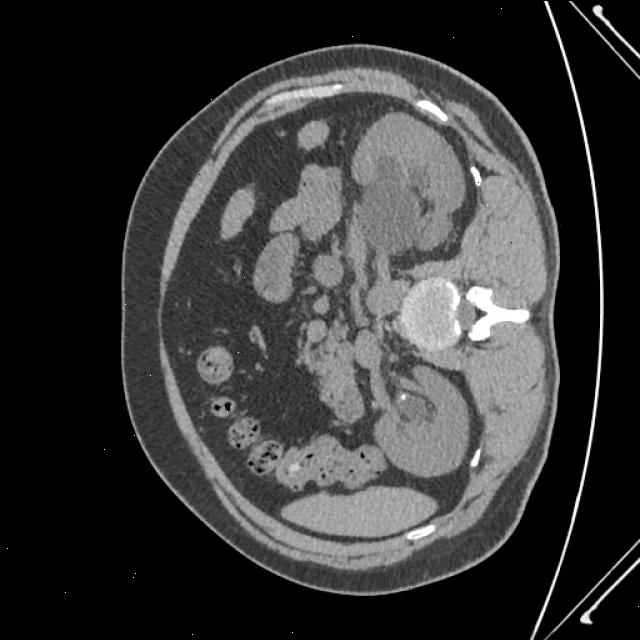kidneystone: (396, 392, 408, 405)
